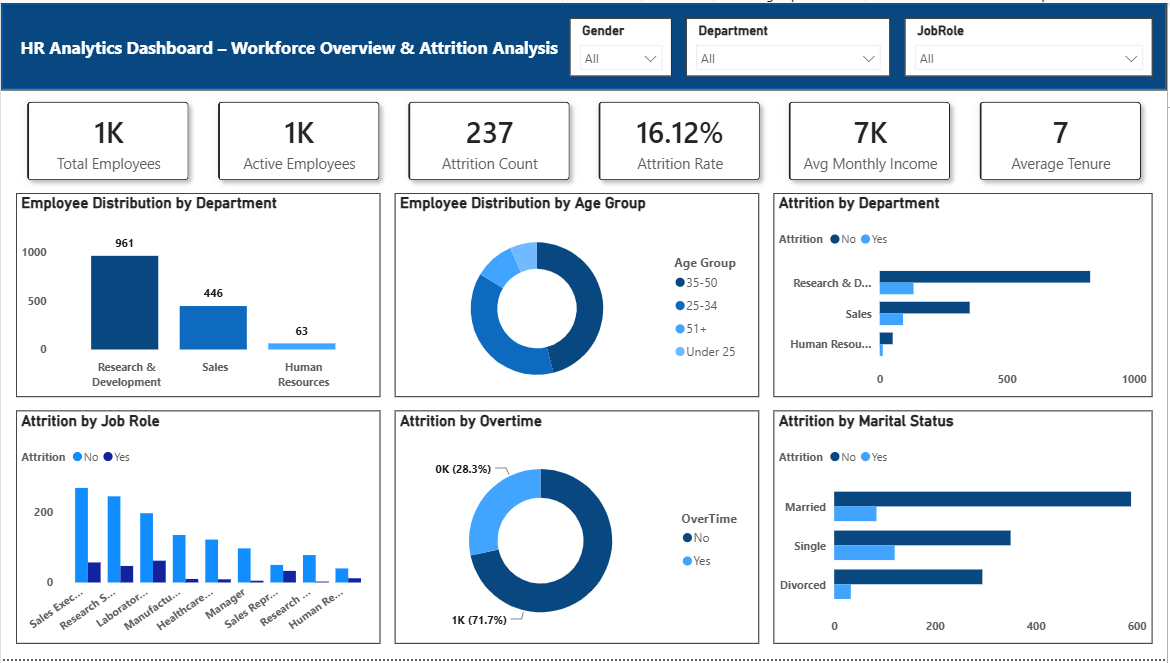

The page's visual inventory and layout, read from the dashboard file:
{"tool":"powerbi","page":{"name":"HR_Analytics","canvas":[1280,720],"ordinal":0},"visuals":[{"type":"cardVisual","fields":{"Data":["Measures_.Total Employees","Measures_.Active Employees","Measures_.Attrition Count","Measures_.Attrition Rate","Measures_.Average Monthly Income","Measures_.Average Tenure"]},"box":[0,80,1280,144],"z":0},{"type":"clusteredColumnChart","title":"Employee Distribution by Department","fields":{"Category":["hr_employee.Department"],"Y":["Measures_.Total Employees"]},"box":[16,208,400,224],"z":1000},{"type":"donutChart","title":"Employee Distribution  by Age Group","fields":{"Category":["hr_employee.Age Group"],"Y":["CountNonNull(hr_employee.EmployeeNumber)"]},"box":[432,208,400,224],"z":2000},{"type":"clusteredBarChart","title":"Attrition by Department","fields":{"Category":["hr_employee.Department"],"Y":["Measures_.Total Employees"],"Series":["hr_employee.Attrition"]},"box":[848,208,416,224],"z":3000},{"type":"clusteredColumnChart","title":"Attrition by Job Role","fields":{"Category":["hr_employee.JobRole"],"Y":["Measures_.Total Employees"],"Series":["hr_employee.Attrition"]},"box":[16,448,400,256],"z":4000},{"type":"donutChart","title":"Attrition by Overtime","fields":{"Category":["hr_employee.OverTime"],"Y":["Measures_.Total Employees"]},"box":[432,448,400,256],"z":5000},{"type":"clusteredBarChart","title":"Attrition by Marital Status","fields":{"Category":["hr_employee.MaritalStatus"],"Y":["Measures_.Total Employees"],"Series":["hr_employee.Attrition"]},"box":[848,448,416,256],"z":6000},{"type":"shape","box":[0,0,1280,96],"z":7000},{"type":"textbox","box":[16,32,704,48],"z":8000},{"type":"slicer","fields":{"Values":["hr_employee.Department"]},"box":[752,16,224,64],"z":9000},{"type":"slicer","fields":{"Values":["hr_employee.Gender"]},"box":[624,16,112,64],"z":10000},{"type":"slicer","fields":{"Values":["hr_employee.JobRole"]},"box":[992,16,272,64],"z":11000}]}

Visuals, with their boxes in screenshot pixels (x1, y1, x2, y2), scaled from the page's 1280x720 canvas onto the 1170x663 screenshot:
cardVisual - Measures_.Total Employees x Measures_.Active Employees: [0,74,1169,206]
"Employee Distribution by Department" clusteredColumnChart: [15,192,380,398]
"Employee Distribution  by Age Group" donutChart: [395,192,760,398]
"Attrition by Department" clusteredBarChart: [775,192,1155,398]
"Attrition by Job Role" clusteredColumnChart: [15,413,380,648]
"Attrition by Overtime" donutChart: [395,413,760,648]
"Attrition by Marital Status" clusteredBarChart: [775,413,1155,648]
shape: [0,0,1169,88]
textbox: [15,29,658,74]
slicer - hr_employee.Department: [687,15,892,74]
slicer - hr_employee.Gender: [570,15,673,74]
slicer - hr_employee.JobRole: [907,15,1155,74]
